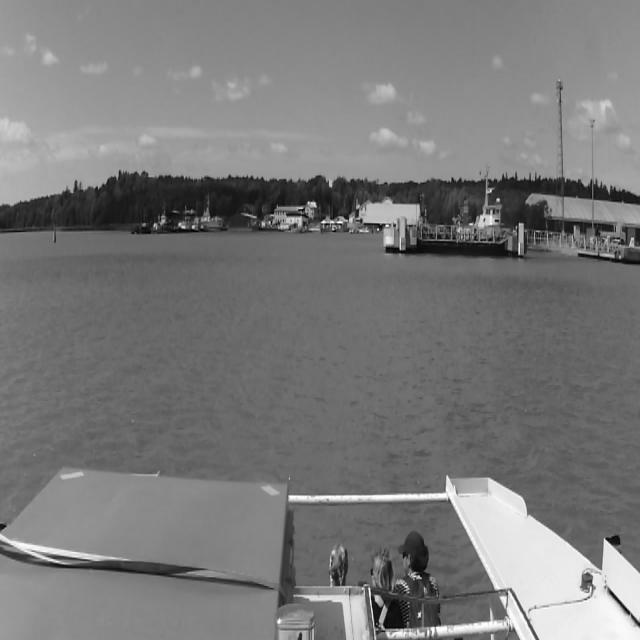buoy: (52, 224, 56, 243)
ship: (192, 194, 225, 232), (152, 206, 174, 234), (174, 216, 192, 232), (136, 223, 151, 234)
